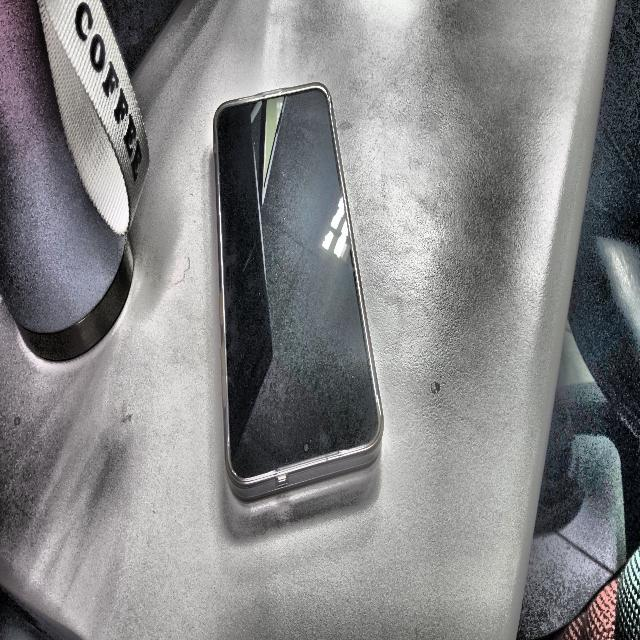PHONE: (213, 83, 383, 499)
